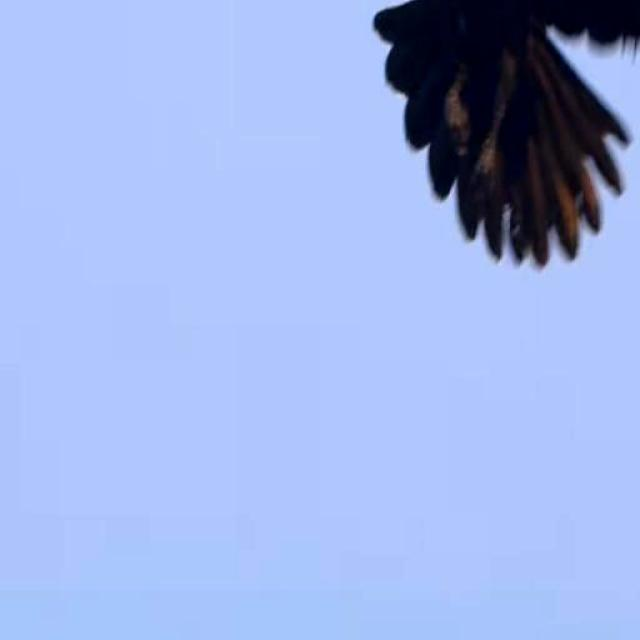airplane: (150, 0, 640, 278)
